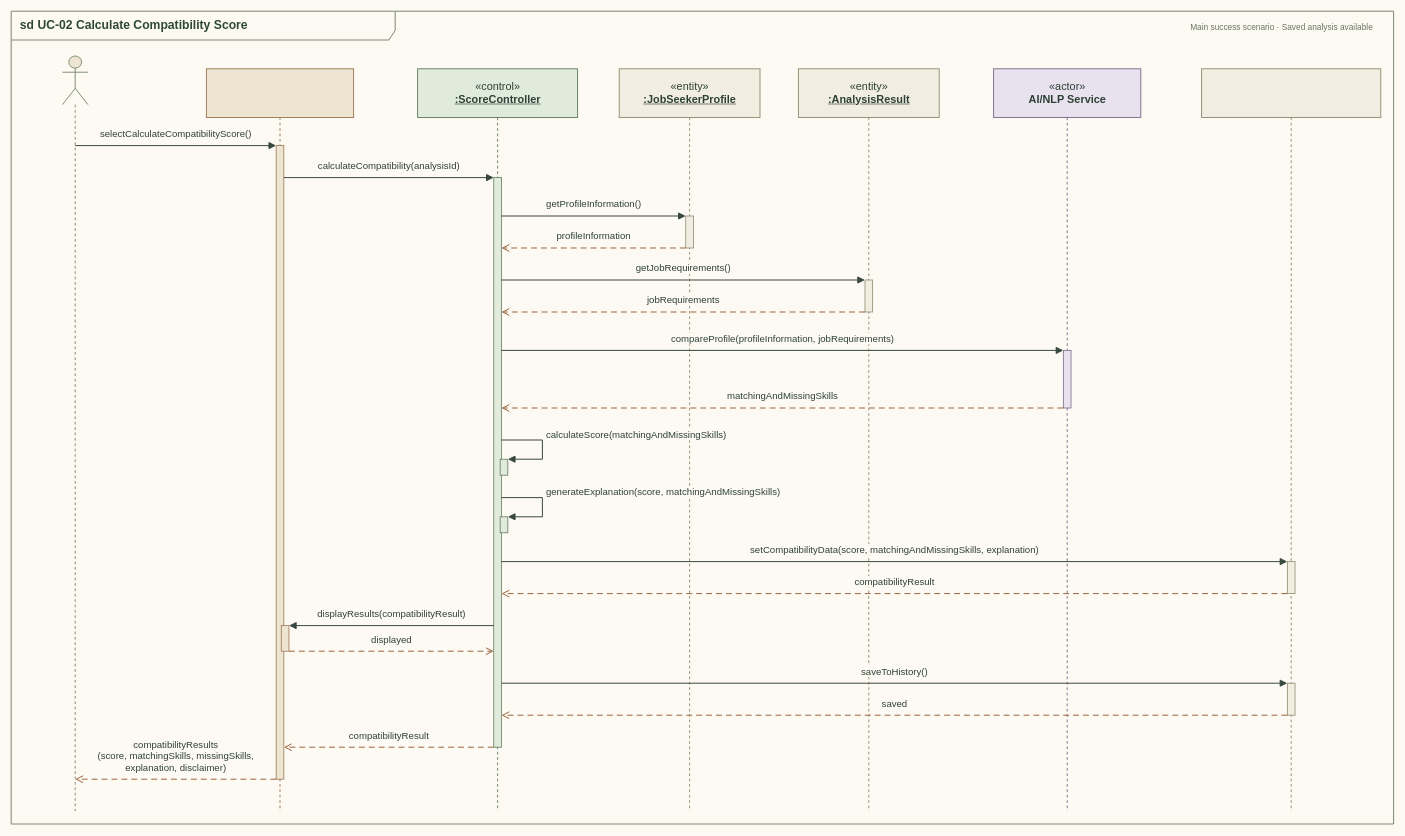
Image size: 1405x836. Some labels were removed from this diagram. The box of each missing label's shape, as (x1, y1, x2, y2) in pixels:
aJobSeeker:JobSeeker: (62, 55, 88, 811)
«boundary» :ScorePage: (206, 68, 354, 811)
«entity» :CompatibilityResult: (1201, 68, 1381, 811)
